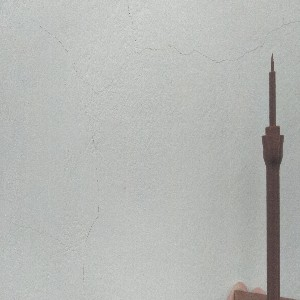solder: (261, 53, 285, 300)
